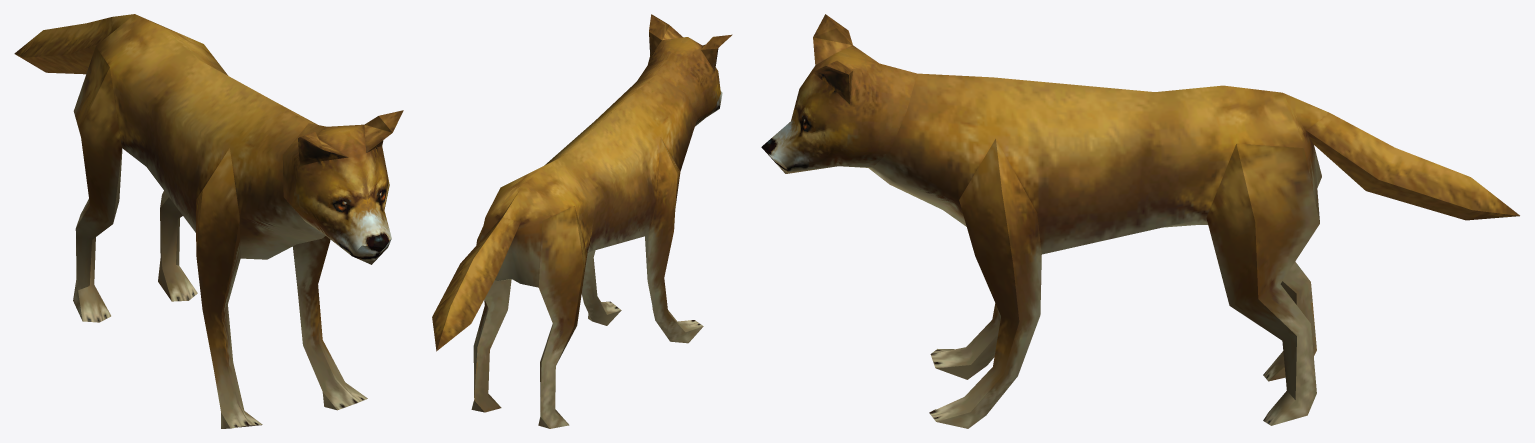
File: dog.glb
3 renders of one model, left to right at view 1: azimuth 30°, elevation 25°; view 2: azimuth 150°, elevation 25°; view 3: azimuth 270°, elevation 25°, orthographic. The views are drawn at different scales.
Parts seen in each view (by area): view 1: glbxz.com-shrw-0064.1; view 2: glbxz.com-shrw-0064.1; view 3: glbxz.com-shrw-0064.1.
Part boxes in pixels (bbox=[...]): glbxz.com-shrw-0064.1: bbox=[14, 14, 403, 428]; glbxz.com-shrw-0064.1: bbox=[432, 14, 732, 428]; glbxz.com-shrw-0064.1: bbox=[761, 14, 1519, 428].
Size of the model in its own units: 0.3332 by 0.7999 by 1.53.
1 material, 1 textured.
